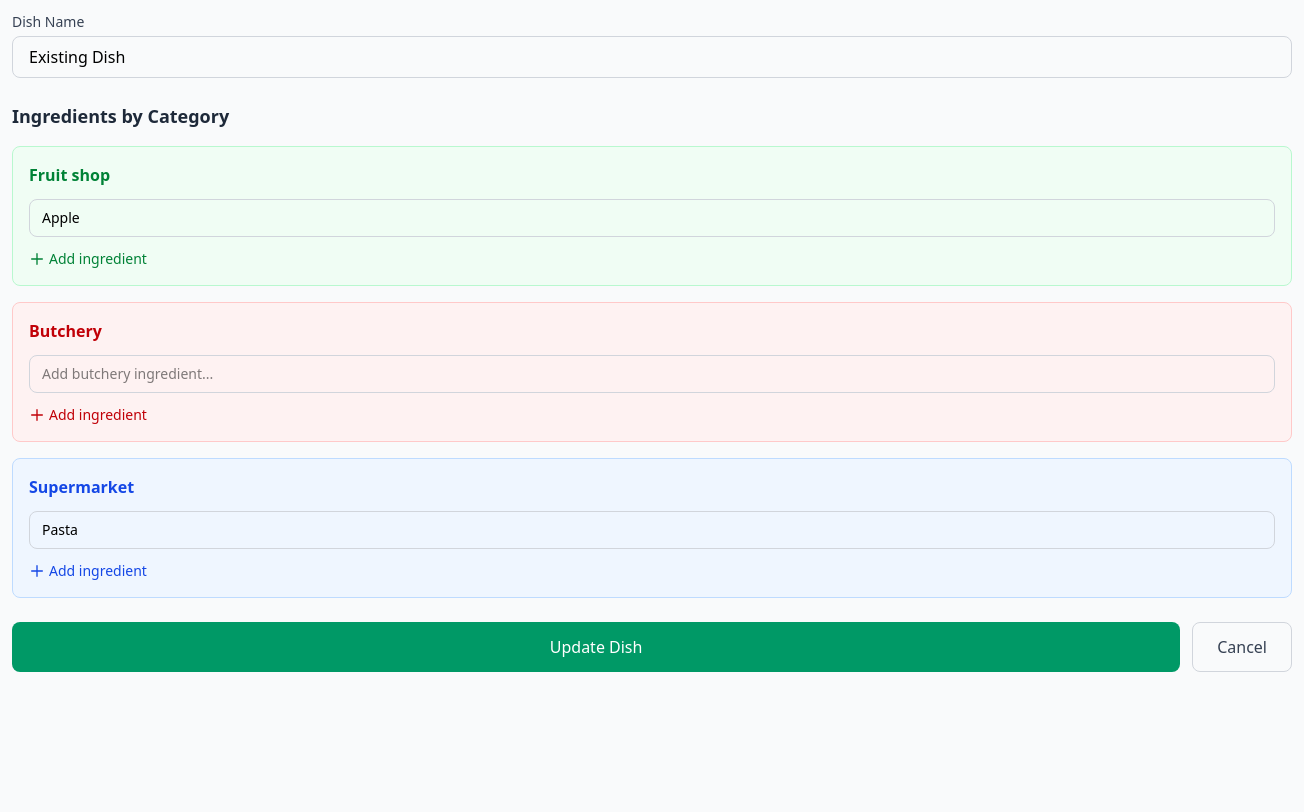
Test: CreateDishForm › editing › resets form when cancel is clicked
Expected: the field labelled "Dish Name" holds "Existing Dish", [12,36,1292,78]
Click the button "Cancel" at (1242, 647), box [1192,622,1292,672]
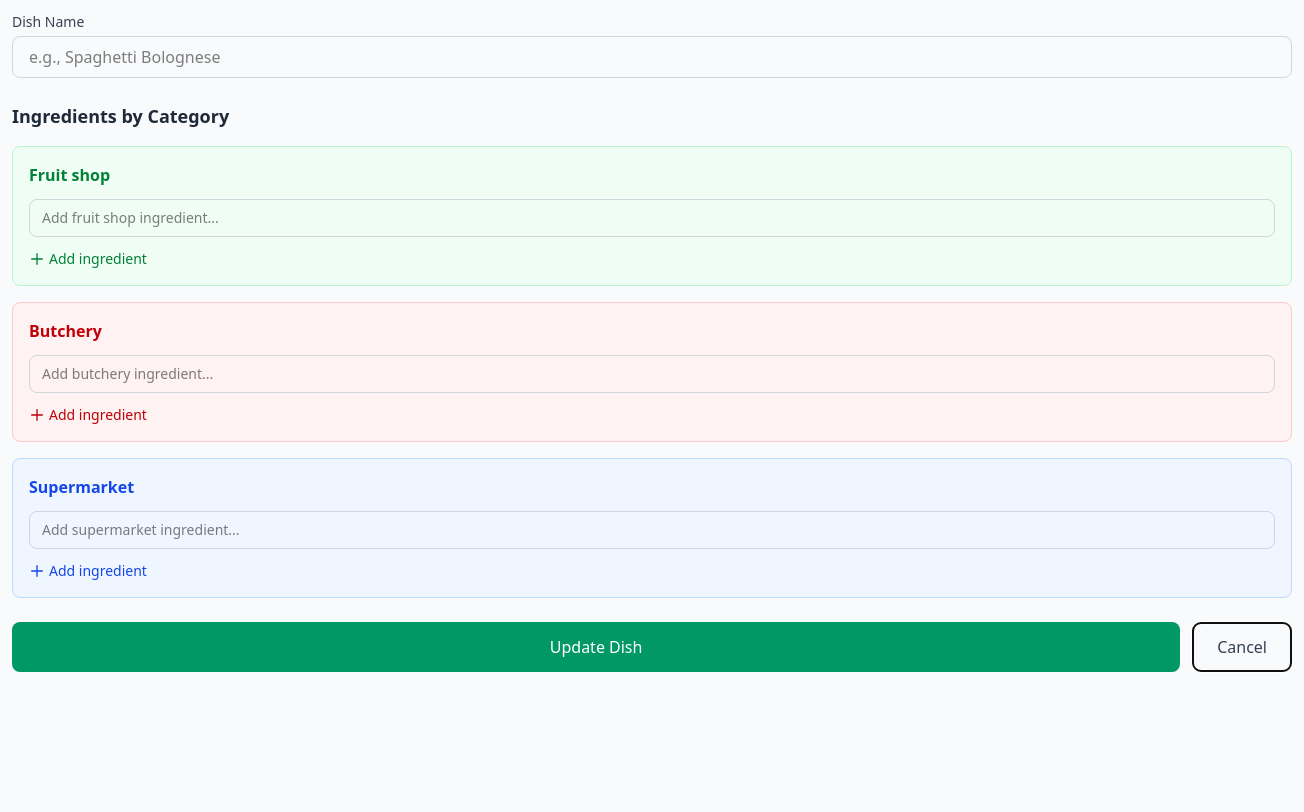
Result: the field labelled "Dish Name" is empty at [12,36,1292,78]
